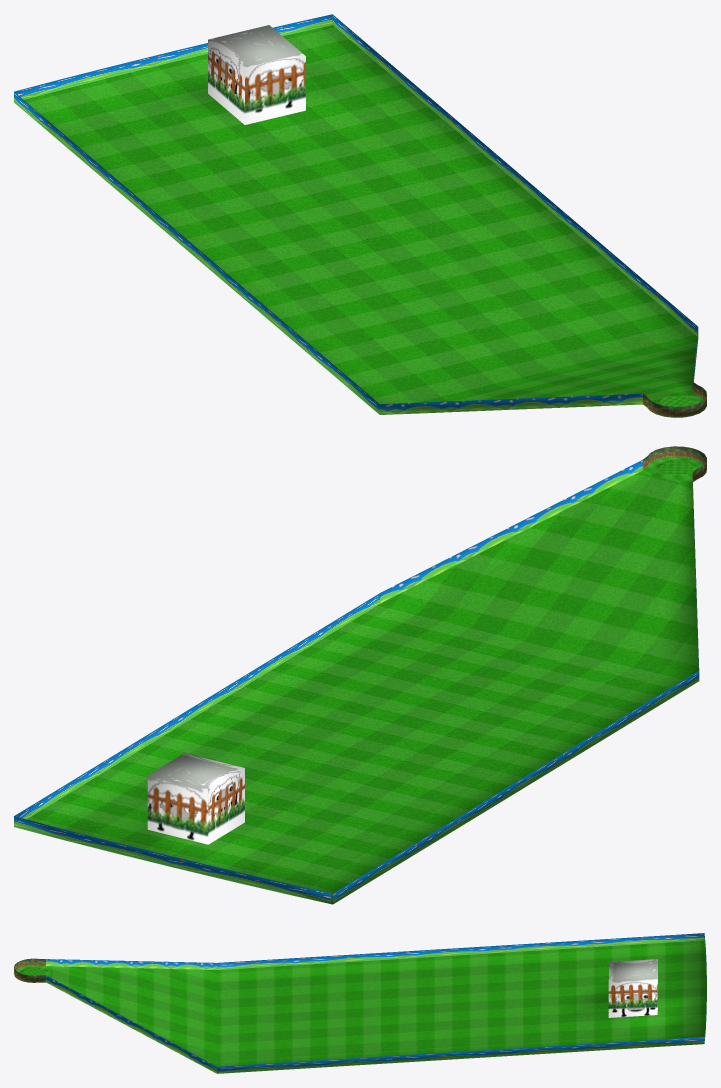
File: theFoldTerrain2wv.fbx
3 renders of one model, top to bottom at view 1: azimuth 30°, elevation 25°; view 2: azimuth 150°, elevation 25°; view 3: azimuth 270°, elevation 25°, orthographic. The views are drawn at different scales.
Parts seen in each view (by area): view 1: pCylinder1; view 2: pCylinder1; view 3: pCylinder1.
Part boxes in pixels (left/top/right/bottom): pCylinder1: left=14, top=14, right=706, bottom=417; pCylinder1: left=14, top=446, right=706, bottom=904; pCylinder1: left=14, top=933, right=706, bottom=1073.
Size of the model in its own units: 233 by 66.06 by 658.
Materials: 1 (1 with a texture image).
